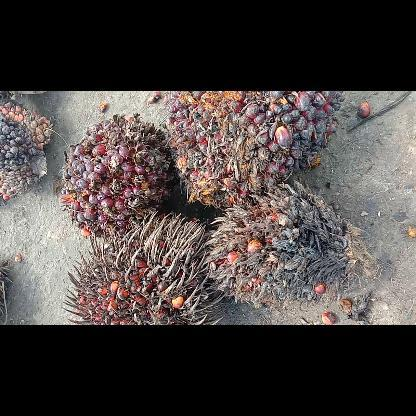TBS masak: (166, 91, 340, 209), (58, 114, 171, 236)
Terlalu masak: (208, 180, 366, 310), (62, 210, 223, 324)
